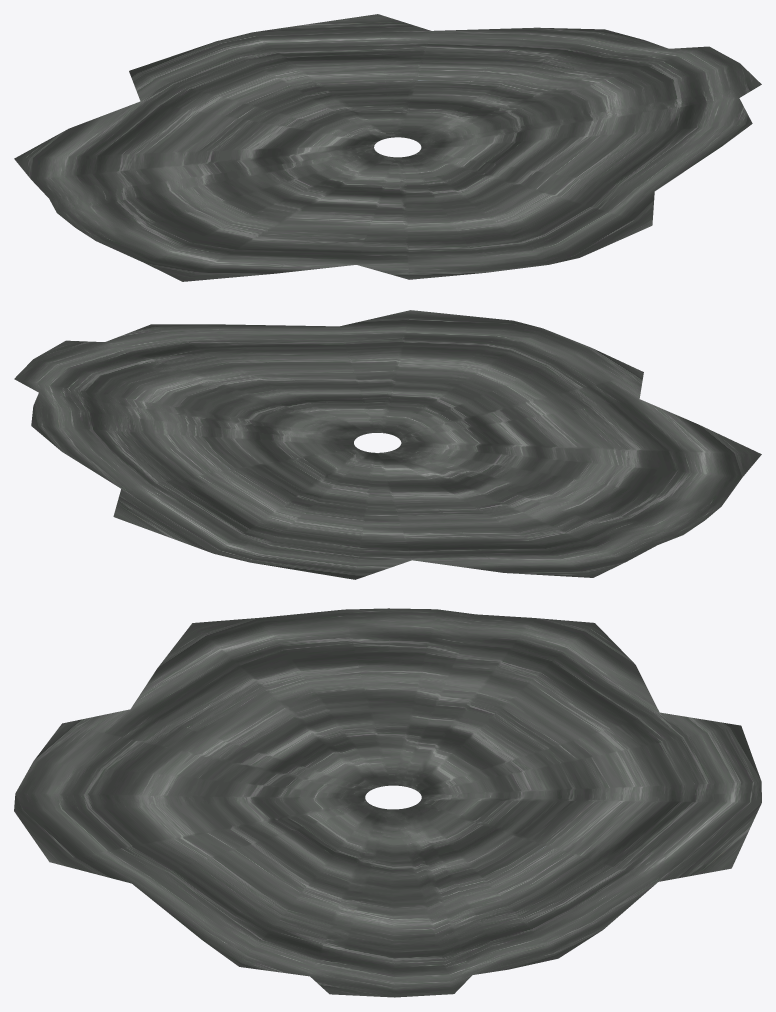
File: water_ripples_med_undercity.dae
3 renders of one model, top to bottom at view 1: azimuth 30°, elevation 25°; view 2: azimuth 150°, elevation 25°; view 3: azimuth 270°, elevation 25°, orthographic. The views are drawn at different scales.
Parts seen in each view (by area): view 1: Mesh; view 2: Mesh; view 3: Mesh.
Boxes of the visible parts, <box> form: Mesh: <box>14,14,761,281</box>; Mesh: <box>14,310,761,579</box>; Mesh: <box>14,608,761,997</box>.
Bounding box in the file's own units: 7.6 × 0 × 6.17.
